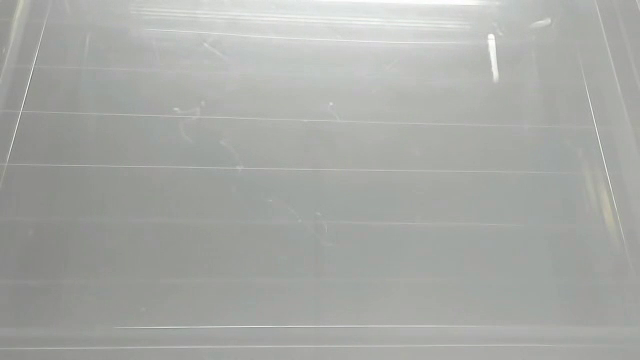alpha: (484, 28, 508, 85)
